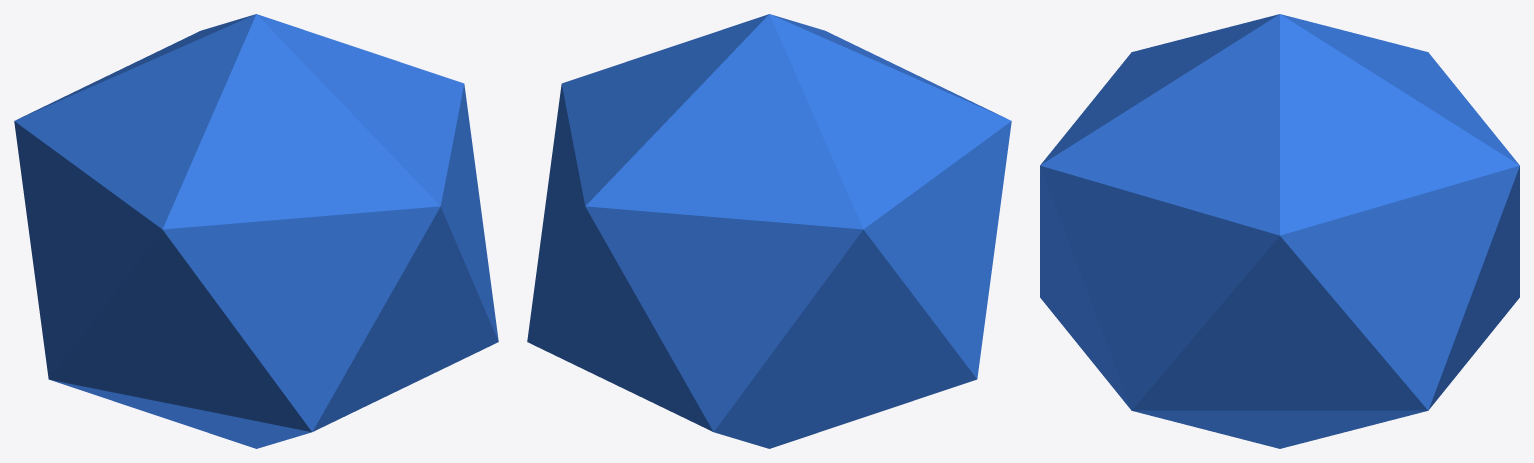
The model's file is FedPointPrefab.fbx.
The picture shows the model from 3 angles, left to right: view 1: azimuth 30°, elevation 25°; view 2: azimuth 150°, elevation 25°; view 3: azimuth 270°, elevation 25°; orthographic projection.
Parts seen in each view (by area): view 1: Icosphere; view 2: Icosphere; view 3: Icosphere.
Boxes of the visible parts, left/top/right/bottom form: Icosphere: left=14, top=14, right=498, bottom=448; Icosphere: left=527, top=14, right=1011, bottom=448; Icosphere: left=1040, top=14, right=1519, bottom=448.
Size of the model in its own units: 20 by 20 by 20.
